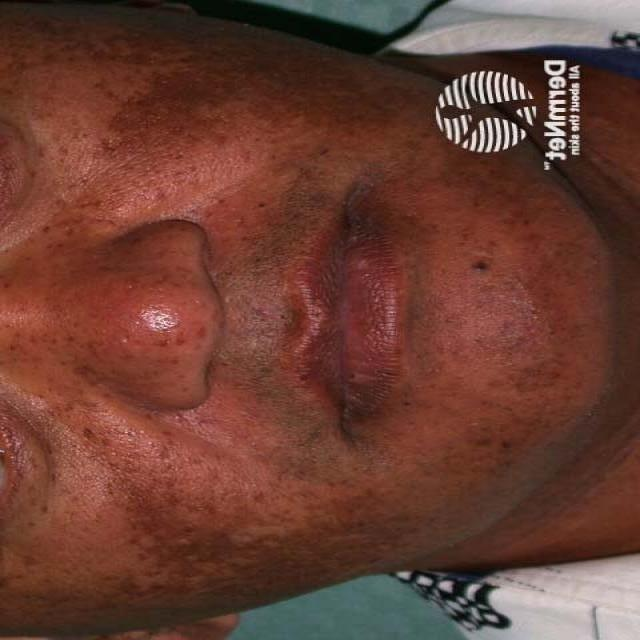Melasma: (425, 187, 597, 500), (15, 456, 373, 606), (82, 60, 360, 198)
